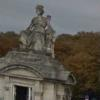Statue: (8, 3, 67, 76)
